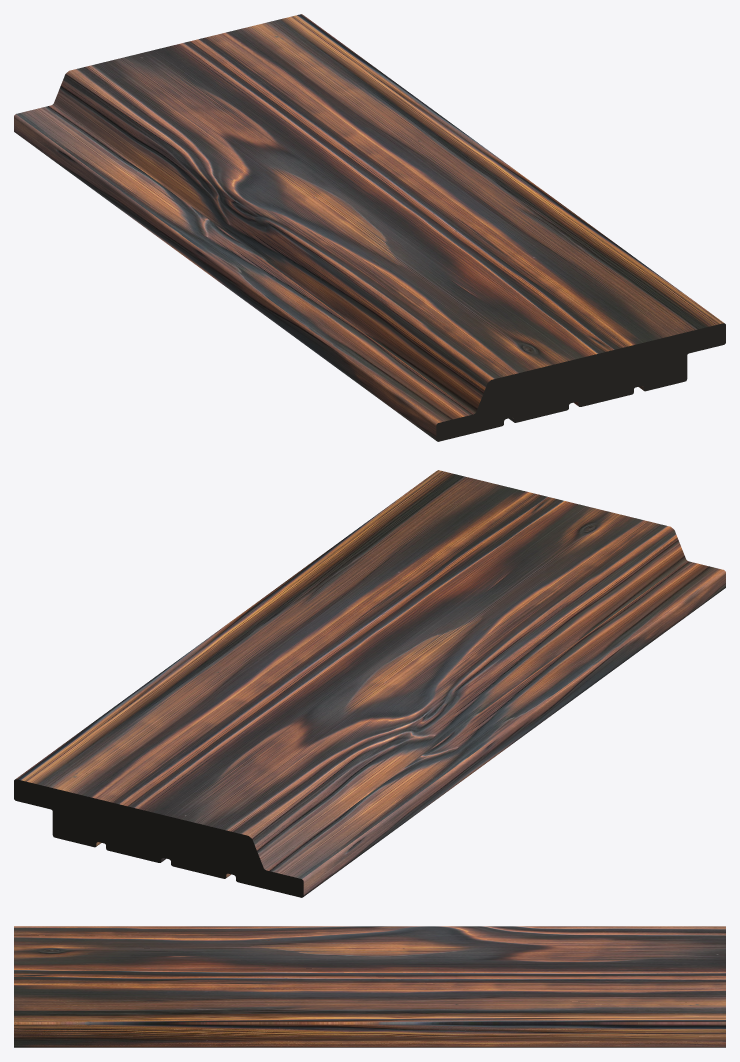
The model's file is larch-facade-half-tongue-black.glb.
3 renders of one model, top to bottom at view 1: azimuth 30°, elevation 25°; view 2: azimuth 150°, elevation 25°; view 3: azimuth 270°, elevation 25°, orthographic. The views are drawn at different scales.
Parts seen in each view (by area): view 1: Pusė_Špunto; view 2: Pusė_Špunto; view 3: Pusė_Špunto.
Boxes of the visible parts, x1,y1,x2,y2 form: Pusė_Špunto: [14, 14, 725, 441]; Pusė_Špunto: [14, 470, 725, 897]; Pusė_Špunto: [14, 926, 725, 1047].
Bounding box in the file's own units: 0.0723 × 0.0117 × 0.1826.
3 materials, 1 textured.
